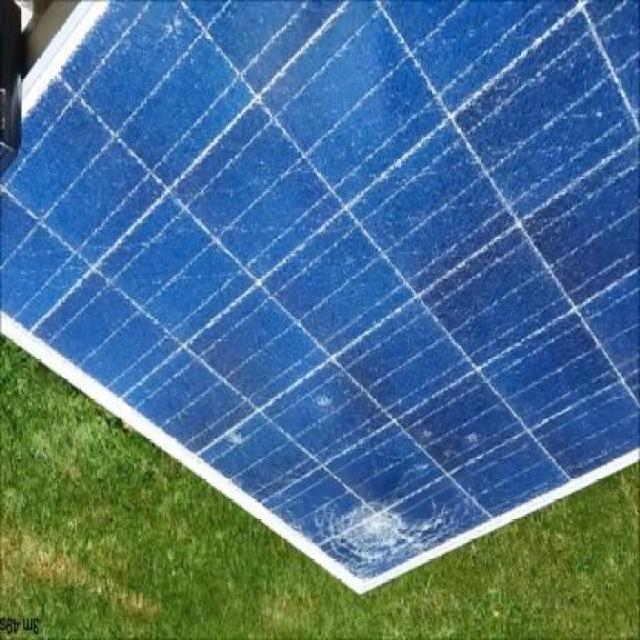cracked: (23, 0, 640, 602)
